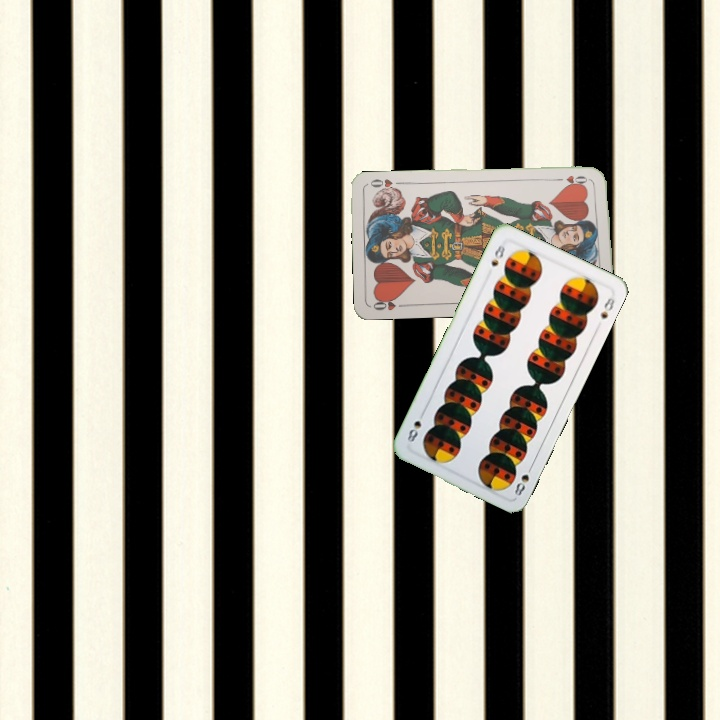HO: (369, 294, 409, 313), (553, 171, 594, 187)
S8: (510, 460, 536, 498), (487, 241, 507, 269)
